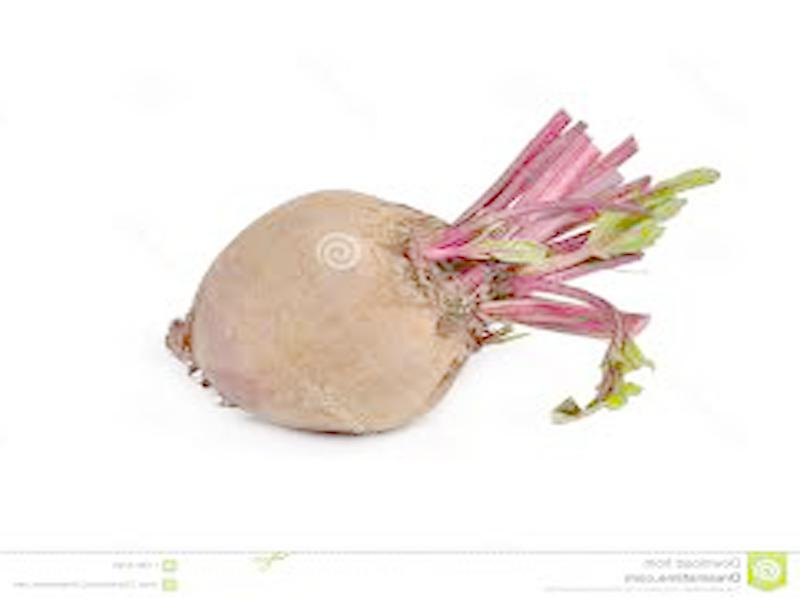Beet: (164, 112, 716, 431)
